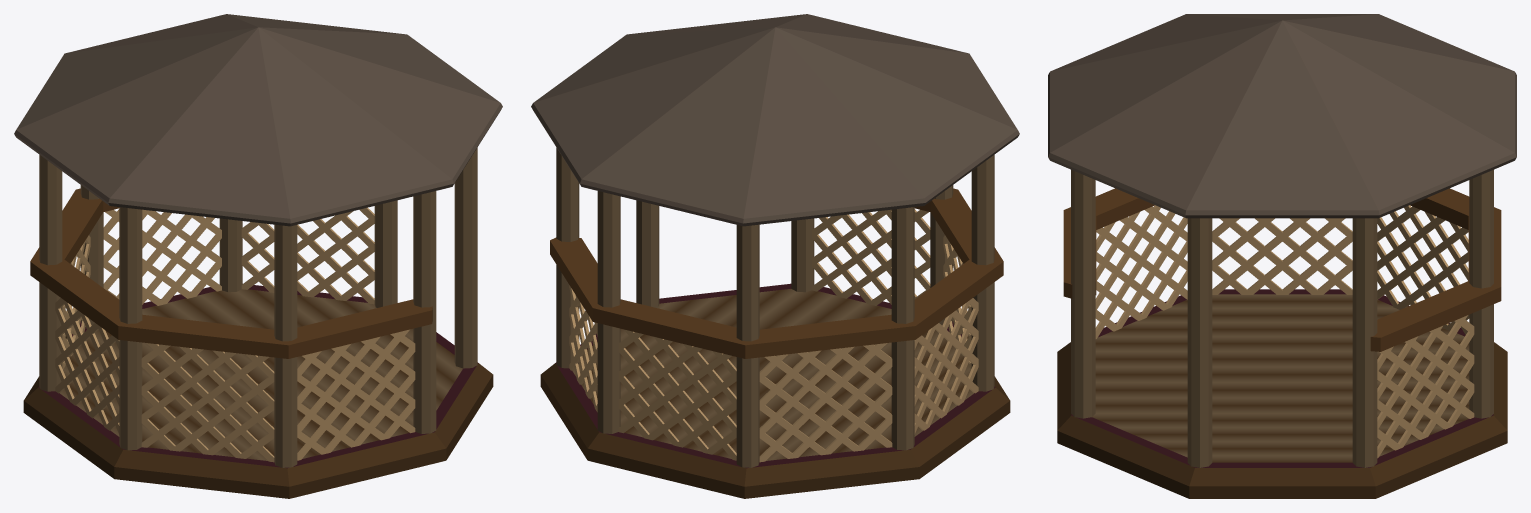
The model's file is garden house.fbx.
The picture shows the model from 3 angles, left to right: view 1: azimuth 30°, elevation 25°; view 2: azimuth 150°, elevation 25°; view 3: azimuth 270°, elevation 25°; orthographic projection. The views are drawn at different scales.
Parts seen in each view (by area): view 1: garden house; view 2: garden house; view 3: garden house.
Boxes of the visible parts, x1=… form: garden house: x1=14, y1=14, x2=502, y2=498; garden house: x1=531, y1=14, x2=1019, y2=498; garden house: x1=1048, y1=14, x2=1516, y2=498.
Bounding box in the file's own units: 3.19 × 3.19 × 2.88.
